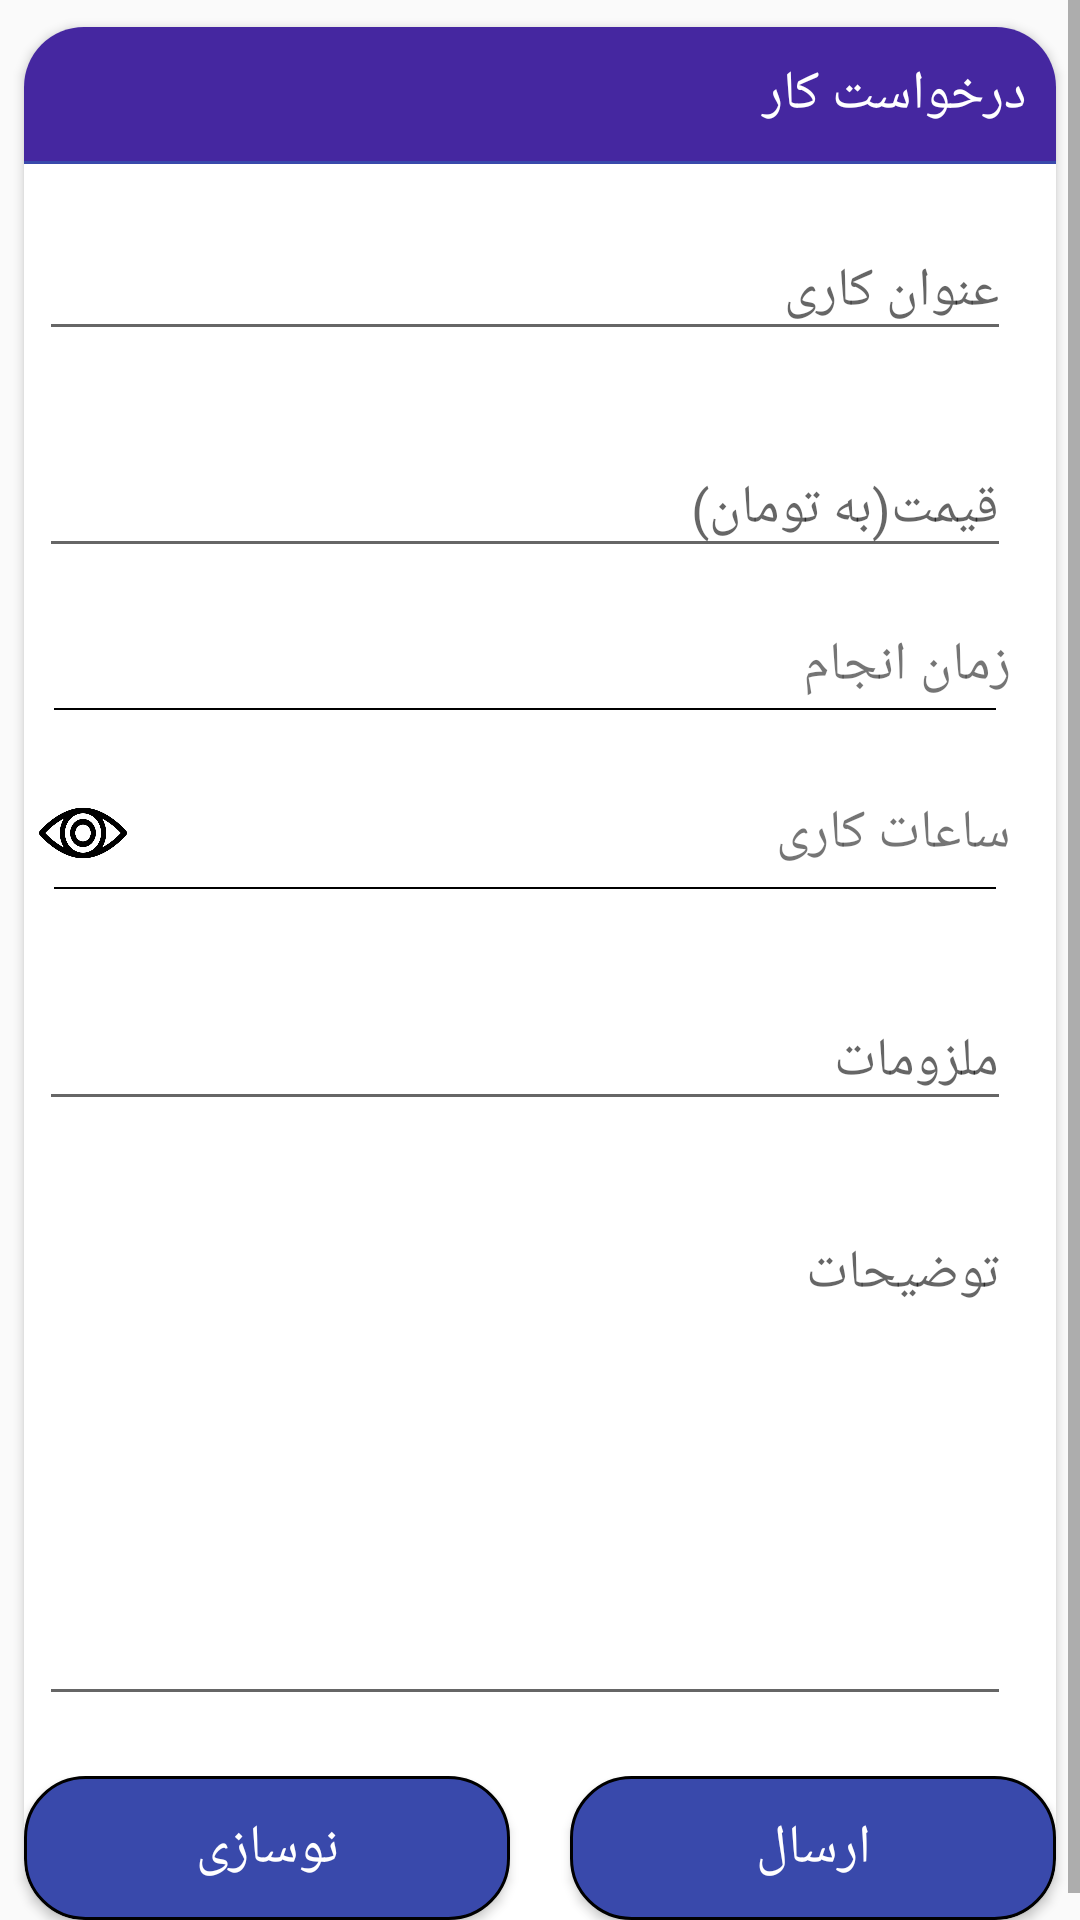

Icons on this 1080 × 1920 Android screen, each with its box as (x1, y1, x2, y2):
eye: (39, 808, 127, 858)
